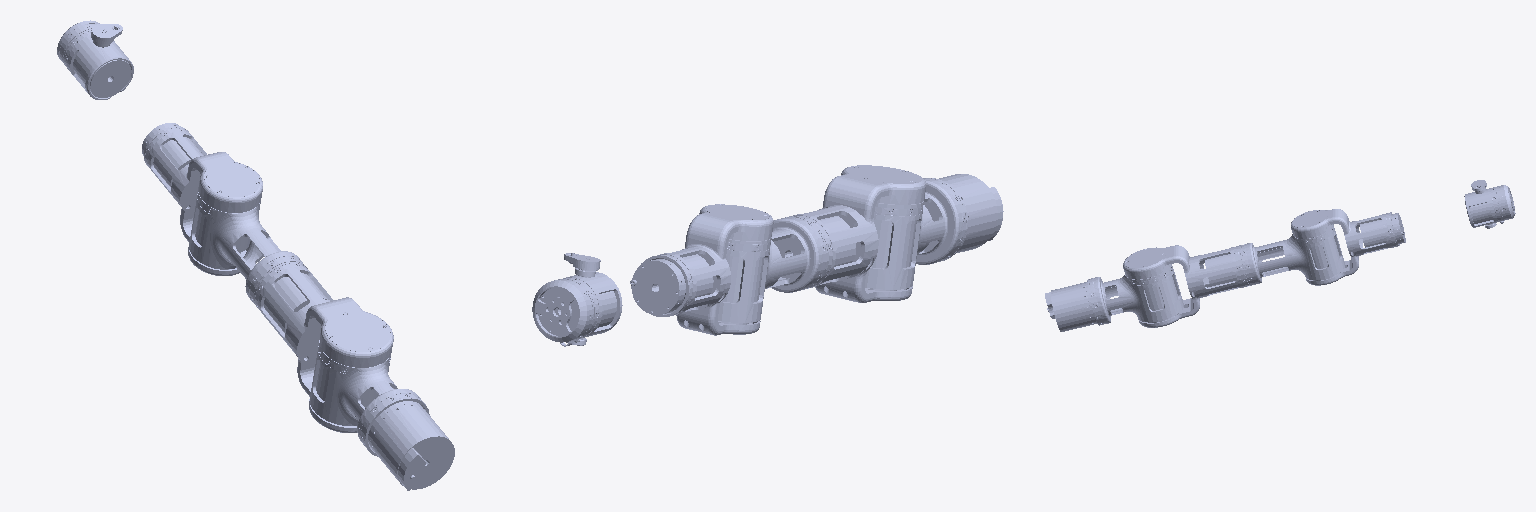
URDF robot description (aearm):
<?xml version="1.0" encoding="utf-8"?>
<robot name="aearm">
  <link name="base_link"/>

  <joint
    name="left_fixed_joint"
    type="fixed">
    <origin
      xyz="0 0.14632 0.414"
      rpy="-1.308997 0 0" />
    <parent
      link="base_link" />
    <child
      link="left_base_link" />
    <axis
      xyz="0 1 0" />
   <dynamics damping="1.1" friction="1.5"/>
</joint>
  <!-- <joint name="base_right_joint" type="fixed">
    <origin rpy="0 0 0" xyz="0 0.2 0.5"/>
    <parent link="base_link"/>
    <child link="right_base_link"/>
   <dynamics damping="1.1" friction="1.5"/>
</joint> -->
  <!-- left arm -->
  <link name="left_base_link">
    <inertial>
      <origin rpy="0 0 0" xyz="-0.00076435 -6.5733E-05 0.053673"/>
      <mass value="1.000918"/>
      <inertia ixx="0.000829" ixy="0.000001" ixz="0.000034" iyy="0.000843" iyz="0.000003" izz="0.000621"/>
    </inertial>
    <visual>
      <origin rpy="0 0 0" xyz="0 0 0"/>
      <geometry>
        <mesh filename="package://arm_kinematics_solver/meshes/base_link.STL"/>
      </geometry>
      <material name="">
        <color rgba="0.79216 0.81961 0.93333 1"/>
      </material>
    </visual>
    <collision>
      <origin rpy="0 0 0" xyz="0 0 0"/>
      <geometry>
        <mesh filename="package://arm_kinematics_solver/meshes/base_link.STL"/>
      </geometry>
    </collision>
  </link>
  <link name="left_Link1">
    <inertial>
      <origin rpy="0 0 0" xyz="-5.2554E-05 -0.0053442 -0.0082759"/>
      <mass value="1.301479"/>
      <inertia ixx="0.001955" ixy="-0.000003" ixz="-0.000002" iyy="0.001633" iyz="-0.000034" izz="0.001269"/>
    </inertial>
    <visual>
      <origin rpy="0 0 0" xyz="0 0 0"/>
      <geometry>
        <mesh filename="package://arm_kinematics_solver/meshes/Link1.STL"/>
      </geometry>
      <material name="">
        <color rgba="0.79216 0.81961 0.93333 1"/>
      </material>
    </visual>
    <collision>
      <origin rpy="0 0 0" xyz="0 0 0"/>
      <geometry>
        <mesh filename="package://arm_kinematics_solver/meshes/Link1.STL"/>
      </geometry>
    </collision>
  </link>
  <joint name="left_joint1" type="revolute">
    <origin rpy="0 0 0" xyz="0 0 0.182"/>
    <parent link="left_base_link"/>
    <child link="left_Link1"/>
    <axis xyz="0 0 1"/>
    <limit effort="0" lower="-3.1415926" upper="3.1415926" velocity="0"/>
   <dynamics damping="1.1" friction="1.5"/>
</joint>
  <link name="left_Link2">
    <inertial>
      <origin rpy="0 0 0" xyz="0.00025764 -0.094316 0.00044678"/>
      <mass value="1.191673"/>
      <inertia ixx="0.003751" ixy="0.000005" ixz="0.000003" iyy="0.001170" iyz="0.000117" izz="0.003283"/>
    </inertial>
    <visual>
      <origin rpy="0 0 0" xyz="0 0 0"/>
      <geometry>
        <mesh filename="package://arm_kinematics_solver/meshes/Link2.STL"/>
      </geometry>
      <material name="">
        <color rgba="0.79216 0.81961 0.93333 1"/>
      </material>
    </visual>
    <collision>
      <origin rpy="0 0 0" xyz="0 0 0"/>
      <geometry>
        <mesh filename="package://arm_kinematics_solver/meshes/Link2.STL"/>
      </geometry>
    </collision>
  </link>
  <joint name="left_joint2" type="revolute">
    <origin rpy="-1.5707963267948966 0 0" xyz="0 0 0"/>
    <parent link="left_Link1"/>
    <child link="left_Link2"/>
    <axis xyz="0 0 1"/>
    <limit effort="0" lower="-2.18" upper="2.18" velocity="0"/>
   <dynamics damping="1.1" friction="1.5"/>
</joint>
  <link name="left_Link3">
    <inertial>
      <origin rpy="0 0 0" xyz="0.00031625 -0.0039156 -0.012819"/>
      <mass value="1.004294"/>
      <inertia ixx="0.001754" ixy="0.000012" ixz="0.000008" iyy="0.001475" iyz="-0.000039" izz="0.000839"/>
    </inertial>
    <visual>
      <origin rpy="0 0 0" xyz="0 0 0"/>
      <geometry>
        <mesh filename="package://arm_kinematics_solver/meshes/Link3.STL"/>
      </geometry>
      <material name="">
        <color rgba="0.79216 0.81961 0.93333 1"/>
      </material>
    </visual>
    <collision>
      <origin rpy="0 0 0" xyz="0 0 0"/>
      <geometry>
        <mesh filename="package://arm_kinematics_solver/meshes/Link3.STL"/>
      </geometry>
    </collision>
  </link>
  <joint name="left_joint3" type="revolute">
    <origin rpy="1.5707963267948966 0 0" xyz="0 -0.276 0"/>
    <parent link="left_Link2"/>
    <child link="left_Link3"/>
    <axis xyz="0 0 1"/>
    <limit effort="0" lower="-3.1415926" upper="3.1415926" velocity="0"/>
   <dynamics damping="1.1" friction="1.5"/>
</joint>
  <link name="left_Link4">
    <inertial>
      <origin rpy="0 0 0" xyz="9.892E-06 -0.075751 3.1247E-05"/>
      <mass value="0.725811"/>
      <inertia ixx="0.001959" ixy="-0.000001" ixz="0.000000" iyy="0.000660" iyz="0.000072" izz="0.001613"/>
    </inertial>
    <visual>
      <origin rpy="0 0 0" xyz="0 0 0"/>
      <geometry>
        <mesh filename="package://arm_kinematics_solver/meshes/Link4.STL"/>
      </geometry>
      <material name="">
        <color rgba="0.79216 0.81961 0.93333 1"/>
      </material>
    </visual>
    <collision>
      <origin rpy="0 0 0" xyz="0 0 0"/>
      <geometry>
        <mesh filename="package://arm_kinematics_solver/meshes/Link4.STL"/>
      </geometry>
    </collision>
  </link>
  <joint name="left_joint4" type="revolute">
    <origin rpy="-1.5707963267948966 0 0" xyz="0 0 0"/>
    <parent link="left_Link3"/>
    <child link="left_Link4"/>
    <axis xyz="0 0 1"/>
    <limit effort="0" lower="-2.14" upper="2.14" velocity="0"/>
   <dynamics damping="1.1" friction="1.5"/>
</joint>
  <link name="left_Link5">
    <inertial>
      <origin rpy="0 0 0" xyz="-3.8461E-06 0.0019832 -0.076384"/>
      <mass value="0.729280"/>
      <inertia ixx="0.001311" ixy="0.000000" ixz="0.000000" iyy="0.000991" iyz="0.000041" izz="0.000605"/>
    </inertial>
    <visual>
      <origin rpy="0 0 0" xyz="0 0 0"/>
      <geometry>
        <mesh filename="package://arm_kinematics_solver/meshes/Link5.STL"/>
      </geometry>
      <material name="">
        <color rgba="0.79216 0.81961 0.93333 1"/>
      </material>
    </visual>
    <collision>
      <origin rpy="0 0 0" xyz="0 0 0"/>
      <geometry>
        <mesh filename="package://arm_kinematics_solver/meshes/Link5.STL"/>
      </geometry>
    </collision>
  </link>
  <joint name="left_joint5" type="revolute">
    <origin rpy="1.5707963267948966 0 0" xyz="0 -0.28 0"/>
    <parent link="left_Link4"/>
    <child link="left_Link5"/>
    <axis xyz="0 0 1"/>
    <limit effort="0" lower="-3.1415926" upper="3.1415926" velocity="0"/>
   <dynamics damping="1.1" friction="1.5"/>
</joint>
  <link name="left_Link6">
    <inertial>
      <origin rpy="0 0 0" xyz="-1.8651E-05 -0.0033108 -0.0014235"/>
      <mass value="0.476825"/>
      <inertia ixx="0.000271" ixy="0.000000" ixz="-0.000003" iyy="0.000199" iyz="-0.000003" izz="0.000234"/>
    </inertial>
    <visual>
      <origin rpy="0 0 0" xyz="0 0 0"/>
      <geometry>
        <mesh filename="package://arm_kinematics_solver/meshes/Link6.STL"/>
      </geometry>
      <material name="">
        <color rgba="0.79216 0.81961 0.93333 1"/>
      </material>
    </visual>
    <collision>
      <origin rpy="0 0 0" xyz="0 0 0"/>
      <geometry>
        <mesh filename="package://arm_kinematics_solver/meshes/Link6.STL"/>
      </geometry>
    </collision>
  </link>
  <joint name="left_joint6" type="revolute">
    <origin rpy="-1.5707963267948966 0 0" xyz="0 0 0"/>
    <parent link="left_Link5"/>
    <child link="left_Link6"/>
    <axis xyz="0 0 1"/>
    <limit effort="0" lower="-1.57" upper="1.57" velocity="0"/>
   <dynamics damping="1.1" friction="1.5"/>
</joint>
  <link name="left_Link7">
    <inertial>
      <origin rpy="0 0 0" xyz="-1.3476E-07 -9.8969E-08 -0.0077909"/>
      <mass value="0.035040"/>
      <inertia ixx="0.000011" ixy="0.000000" ixz="0.000000" iyy="0.000011" iyz="0.000000" izz="0.000020"/>
    </inertial>
    <visual>
      <origin rpy="0 0 0" xyz="0 0 0"/>
      <geometry>
        <mesh filename="package://arm_kinematics_solver/meshes/Link7.STL"/>
      </geometry>
      <material name="">
        <color rgba="0.79216 0.81961 0.93333 1"/>
      </material>
    </visual>
    <collision>
      <origin rpy="0 0 0" xyz="0 0 0"/>
      <geometry>
        <mesh filename="package://arm_kinematics_solver/meshes/Link7.STL"/>
      </geometry>
    </collision>
  </link>
  <joint name="left_joint7" type="revolute">
    <origin rpy="1.5707963267948966 0 0" xyz="0 -0.044 0"/>
    <parent link="left_Link6"/>
    <child link="left_Link7"/>
    <axis xyz="0 0 1"/>
    <limit effort="0" lower="-3.1415926" upper="3.1415926" velocity="0"/>
   <dynamics damping="1.1" friction="1.5"/>
</joint>
  <!-- right arm -->
  <!-- <link name="right_base_link">
    <inertial>
      <origin rpy="0 0 0" xyz="-0.00076435 -6.5733E-05 0.053673"/>
      <mass value="1.000918"/>
      <inertia ixx="0.000829" ixy="0.000001" ixz="0.000034" iyy="0.000843" iyz="0.000003" izz="0.000621"/>
    </inertial>
    <visual>
      <origin rpy="0 0 0" xyz="0 0 0"/>
      <geometry>
        <mesh filename="package://arm_kinematics_solver/meshes/base_link.STL"/>
      </geometry>
      <material name="">
        <color rgba="0.79216 0.81961 0.93333 1"/>
      </material>
    </visual>
    <collision>
      <origin rpy="0 0 0" xyz="0 0 0"/>
      <geometry>
        <mesh filename="package://arm_kinematics_solver/meshes/base_link.STL"/>
      </geometry>
    </collision>
  </link>
  <link name="right_Link1">
    <inertial>
      <origin rpy="0 0 0" xyz="-5.2554E-05 -0.0053442 -0.0082759"/>
      <mass value="1.301479"/>
      <inertia ixx="0.001955" ixy="-0.000003" ixz="-0.000002" iyy="0.001633" iyz="-0.000034" izz="0.001269"/>
    </inertial>
    <visual>
      <origin rpy="0 0 0" xyz="0 0 0"/>
      <geometry>
        <mesh filename="package://arm_kinematics_solver/meshes/Link1.STL"/>
      </geometry>
      <material name="">
        <color rgba="0.79216 0.81961 0.93333 1"/>
      </material>
    </visual>
    <collision>
      <origin rpy="0 0 0" xyz="0 0 0"/>
      <geometry>
        <mesh filename="package://arm_kinematics_solver/meshes/Link1.STL"/>
      </geometry>
    </collision>
  </link>
  <joint name="right_joint1" type="revolute">
    <origin rpy="0 0 0" xyz="0 0 0.182"/>
    <parent link="right_base_link"/>
    <child link="right_Link1"/>
    <axis xyz="0 0 1"/>
    <limit effort="0" lower="-3.1415926" upper="3.1415926" velocity="0"/>
   <dynamics damping="1.1" friction="1.5"/>
</joint>
  <link name="right_Link2">
    <inertial>
      <origin rpy="0 0 0" xyz="0.00025764 -0.094316 0.00044678"/>
      <mass value="1.191673"/>
      <inertia ixx="0.003751" ixy="0.000005" ixz="0.000003" iyy="0.001170" iyz="0.000117" izz="0.003283"/>
    </inertial>
    <visual>
      <origin rpy="0 0 0" xyz="0 0 0"/>
      <geometry>
        <mesh filename="package://arm_kinematics_solver/meshes/Link2.STL"/>
      </geometry>
      <material name="">
        <color rgba="0.79216 0.81961 0.93333 1"/>
      </material>
    </visual>
    <collision>
      <origin rpy="0 0 0" xyz="0 0 0"/>
      <geometry>
        <mesh filename="package://arm_kinematics_solver/meshes/Link2.STL"/>
      </geometry>
    </collision>
  </link>
  <joint name="right_joint2" type="revolute">
    <origin rpy="-1.5707963267948966 0 0" xyz="0 0 0"/>
    <parent link="right_Link1"/>
    <child link="right_Link2"/>
    <axis xyz="0 0 1"/>
    <limit effort="0" lower="-2.18" upper="2.18" velocity="0"/>
   <dynamics damping="1.1" friction="1.5"/>
</joint>
  <link name="right_Link3">
    <inertial>
      <origin rpy="0 0 0" xyz="0.00031625 -0.0039156 -0.012819"/>
      <mass value="1.004294"/>
      <inertia ixx="0.001754" ixy="0.000012" ixz="0.000008" iyy="0.001475" iyz="-0.000039" izz="0.000839"/>
    </inertial>
    <visual>
      <origin rpy="0 0 0" xyz="0 0 0"/>
      <geometry>
        <mesh filename="package://arm_kinematics_solver/meshes/Link3.STL"/>
      </geometry>
      <material name="">
        <color rgba="0.79216 0.81961 0.93333 1"/>
      </material>
    </visual>
    <collision>
      <origin rpy="0 0 0" xyz="0 0 0"/>
      <geometry>
        <mesh filename="package://arm_kinematics_solver/meshes/Link3.STL"/>
      </geometry>
    </collision>
  </link>
  <joint name="right_joint3" type="revolute">
    <origin rpy="1.5707963267948966 0 0" xyz="0 -0.276 0"/>
    <parent link="right_Link2"/>
    <child link="right_Link3"/>
    <axis xyz="0 0 1"/>
    <limit effort="0" lower="-3.1415926" upper="3.1415926" velocity="0"/>
   <dynamics damping="1.1" friction="1.5"/>
</joint>
  <link name="right_Link4">
    <inertial>
      <origin rpy="0 0 0" xyz="9.892E-06 -0.075751 3.1247E-05"/>
      <mass value="0.725811"/>
      <inertia ixx="0.001959" ixy="-0.000001" ixz="0.000000" iyy="0.000660" iyz="0.000072" izz="0.001613"/>
    </inertial>
    <visual>
      <origin rpy="0 0 0" xyz="0 0 0"/>
      <geometry>
        <mesh filename="package://arm_kinematics_solver/meshes/Link4.STL"/>
      </geometry>
      <material name="">
        <color rgba="0.79216 0.81961 0.93333 1"/>
      </material>
    </visual>
    <collision>
      <origin rpy="0 0 0" xyz="0 0 0"/>
      <geometry>
        <mesh filename="package://arm_kinematics_solver/meshes/Link4.STL"/>
      </geometry>
    </collision>
  </link>
  <joint name="right_joint4" type="revolute">
    <origin rpy="-1.5707963267948966 0 0" xyz="0 0 0"/>
    <parent link="right_Link3"/>
    <child link="right_Link4"/>
    <axis xyz="0 0 1"/>
    <limit effort="0" lower="-2.14" upper="2.14" velocity="0"/>
   <dynamics damping="1.1" friction="1.5"/>
</joint>
  <link name="right_Link5">
    <inertial>
      <origin rpy="0 0 0" xyz="-3.8461E-06 0.0019832 -0.076384"/>
      <mass value="0.729280"/>
      <inertia ixx="0.001311" ixy="0.000000" ixz="0.000000" iyy="0.000991" iyz="0.000041" izz="0.000605"/>
    </inertial>
    <visual>
      <origin rpy="0 0 0" xyz="0 0 0"/>
      <geometry>
        <mesh filename="package://arm_kinematics_solver/meshes/Link5.STL"/>
      </geometry>
      <material name="">
        <color rgba="0.79216 0.81961 0.93333 1"/>
      </material>
    </visual>
    <collision>
      <origin rpy="0 0 0" xyz="0 0 0"/>
      <geometry>
        <mesh filename="package://arm_kinematics_solver/meshes/Link5.STL"/>
      </geometry>
    </collision>
  </link>
  <joint name="right_joint5" type="revolute">
    <origin rpy="1.5707963267948966 0 0" xyz="0 -0.28 0"/>
    <parent link="right_Link4"/>
    <child link="right_Link5"/>
    <axis xyz="0 0 1"/>
    <limit effort="0" lower="-3.1415926" upper="3.1415926" velocity="0"/>
   <dynamics damping="1.1" friction="1.5"/>
</joint>
  <link name="right_Link6">
    <inertial>
      <origin rpy="0 0 0" xyz="-1.8651E-05 -0.0033108 -0.0014235"/>
      <mass value="0.476825"/>
      <inertia ixx="0.000271" ixy="0.000000" ixz="-0.000003" iyy="0.000199" iyz="-0.000003" izz="0.000234"/>
    </inertial>
    <visual>
      <origin rpy="0 0 0" xyz="0 0 0"/>
      <geometry>
        <mesh filename="package://arm_kinematics_solver/meshes/Link6.STL"/>
      </geometry>
      <material name="">
        <color rgba="0.79216 0.81961 0.93333 1"/>
      </material>
    </visual>
    <collision>
      <origin rpy="0 0 0" xyz="0 0 0"/>
      <geometry>
        <mesh filename="package://arm_kinematics_solver/meshes/Link6.STL"/>
      </geometry>
    </collision>
  </link>
  <joint name="right_joint6" type="revolute">
    <origin rpy="-1.5707963267948966 0 0" xyz="0 0 0"/>
    <parent link="right_Link5"/>
    <child link="right_Link6"/>
    <axis xyz="0 0 1"/>
    <limit effort="0" lower="-1.57" upper="1.57" velocity="0"/>
   <dynamics damping="1.1" friction="1.5"/>
</joint>
  <link name="right_Link7">
    <inertial>
      <origin rpy="0 0 0" xyz="-1.3476E-07 -9.8969E-08 -0.0077909"/>
      <mass value="0.035040"/>
      <inertia ixx="0.000011" ixy="0.000000" ixz="0.000000" iyy="0.000011" iyz="0.000000" izz="0.000020"/>
    </inertial>
    <visual>
      <origin rpy="0 0 0" xyz="0 0 0"/>
      <geometry>
        <mesh filename="package://arm_kinematics_solver/meshes/Link7.STL"/>
      </geometry>
      <material name="">
        <color rgba="0.79216 0.81961 0.93333 1"/>
      </material>
    </visual>
    <collision>
      <origin rpy="0 0 0" xyz="0 0 0"/>
      <geometry>
        <mesh filename="package://arm_kinematics_solver/meshes/Link7.STL"/>
      </geometry>
    </collision>
  </link>
  <joint name="right_joint7" type="revolute">
    <origin rpy="1.5707963267948966 0 0" xyz="0 -0.044 0"/>
    <parent link="right_Link6"/>
    <child link="right_Link7"/>
    <axis xyz="0 0 1"/>
    <limit effort="0" lower="-3.1415926" upper="3.1415926" velocity="0"/>
   <dynamics damping="1.1" friction="1.5"/>
</joint> -->
</robot>

--- Facts derived from the render (not from the file) ---
Views: 3 orthographic renders of the robot side by side, from view 1: azimuth 30°, elevation 25°; view 2: azimuth 150°, elevation 25°; view 3: azimuth 270°, elevation 25°.
Model aearm with 9 links and 8 joints (7 revolute, 1 fixed), rooted at base_link, posed every joint at zero.
Links seen in each view (by area): view 1: left_Link2, left_Link4, left_Link3, left_Link1, left_base_link, left_Link6; view 2: left_Link4, left_Link2, left_Link1, left_Link3, left_Link6, left_base_link, left_Link7; view 3: left_Link2, left_Link1, left_Link3, left_Link4, left_base_link, left_Link6.
Boxes of the visible links, <box> form: left_Link2: <box>254,262,393,432</box>; left_Link4: <box>142,123,262,275</box>; left_Link3: <box>189,192,303,303</box>; left_Link1: <box>310,340,429,456</box>; left_base_link: <box>368,401,454,490</box>; left_Link6: <box>63,24,133,99</box>; left_Link4: <box>630,204,773,335</box>; left_Link2: <box>774,165,925,302</box>; left_Link1: <box>865,178,967,289</box>; left_Link3: <box>718,216,827,322</box>; left_Link6: <box>538,253,622,346</box>; left_base_link: <box>924,174,1003,252</box>; left_Link7: <box>532,279,593,342</box>; left_Link2: <box>1123,245,1249,327</box>; left_Link1: <box>1087,264,1183,325</box>; left_Link3: <box>1240,224,1344,285</box>; left_Link4: <box>1291,209,1405,285</box>; left_base_link: <box>1045,282,1097,331</box>; left_Link6: <box>1464,180,1504,228</box>.
Size in the robot's own frame: 0.078 by 0.7633 by 0.2665 metres.
7 mesh visuals loaded from 8 distinct referenced files (7 binary STL); not drawn: 1 (reference not matched to a file when rendering).